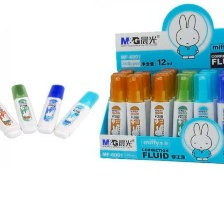correction_fluid: (51, 90, 99, 139), (168, 72, 195, 155), (147, 71, 173, 157), (123, 73, 149, 155), (191, 71, 216, 156), (106, 71, 131, 156), (8, 82, 39, 136), (36, 82, 67, 135), (0, 94, 22, 141), (215, 73, 223, 156)
